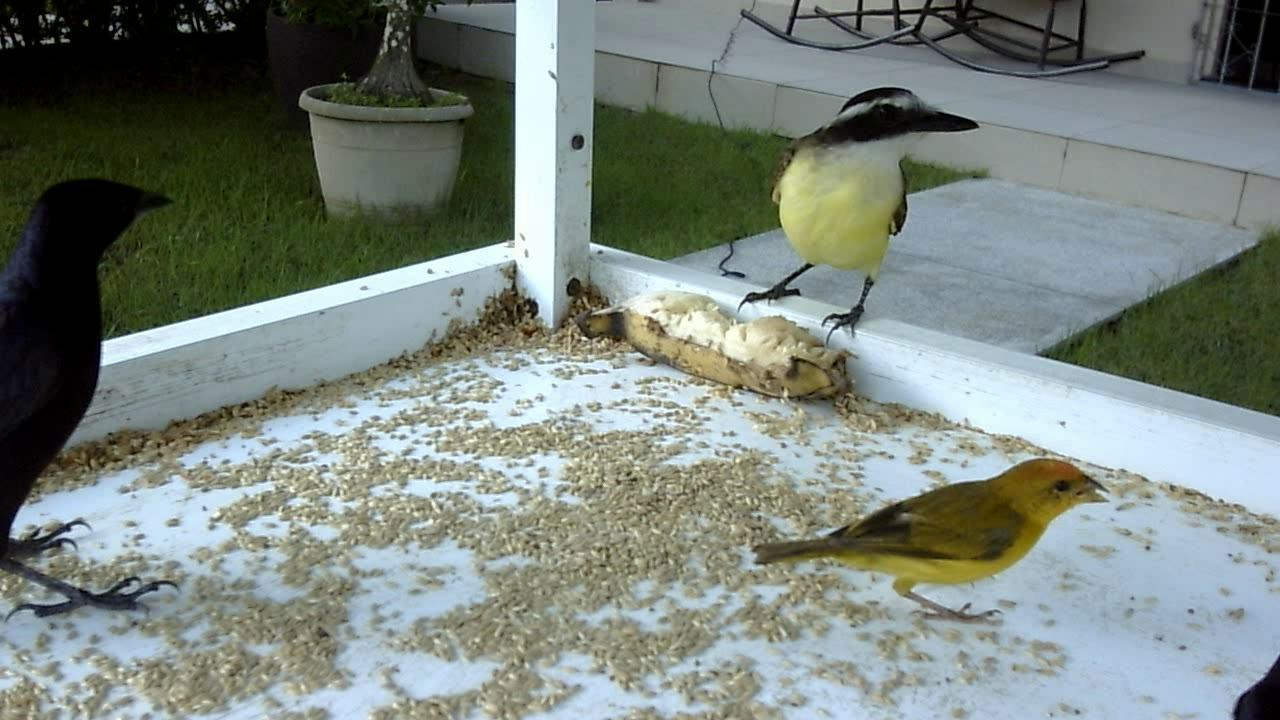bem_te_vi: (699, 66, 989, 359)
canario_do_amazonas: (734, 439, 1111, 639)
chupim: (1, 163, 189, 644)
